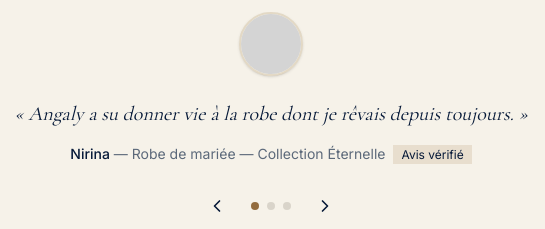
Test: TestimonialsCarousel › navigates via a dot indicator
Expected: the text "Nirina" is shown, x1=70 y1=145 x2=110 y2=162
Click the tab named "Témoignage 3" at coordinates (287, 206), box x1=283 y1=202 x2=291 y2=210
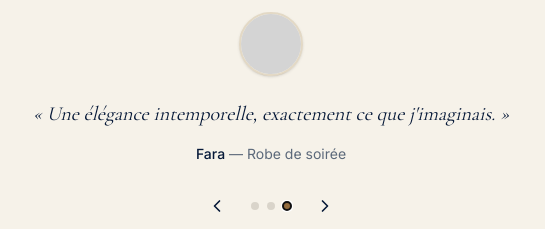
Now the text "Fara" is shown, box x1=196 y1=145 x2=225 y2=162
